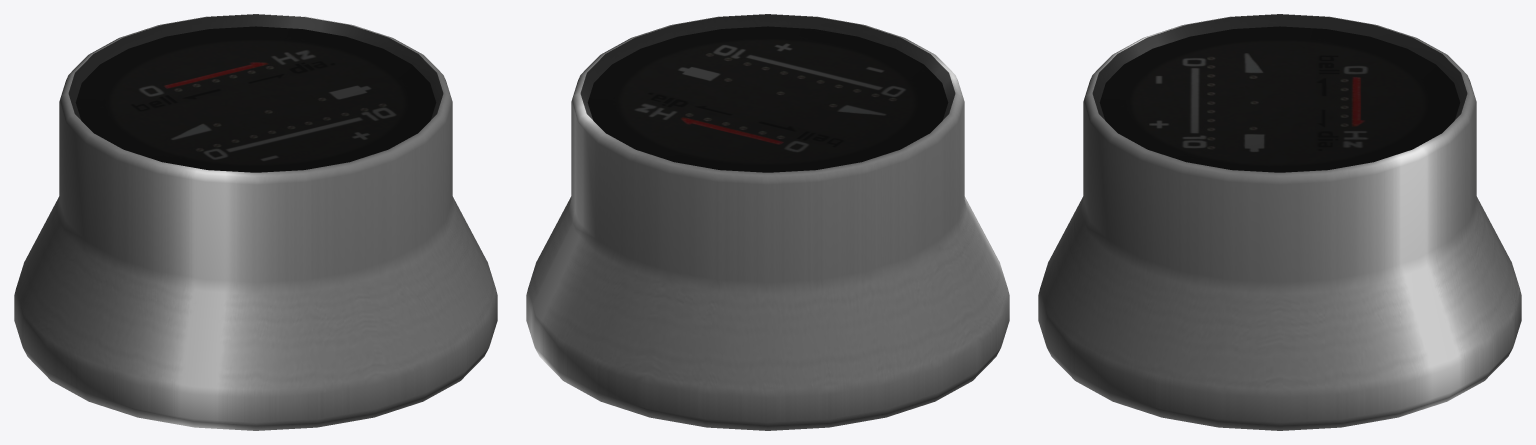
File: TLOneStethoscope.glb
3 views of the same model, side by side, from view 1: azimuth 30°, elevation 25°; view 2: azimuth 150°, elevation 25°; view 3: azimuth 270°, elevation 25° (orthographic).
Parts seen in each view (by area): view 1: TLOneStethoscope, TLOneStethoscopeGlass; view 2: TLOneStethoscope, TLOneStethoscopeGlass; view 3: TLOneStethoscope, TLOneStethoscopeGlass.
Part boxes in pixels (x1,y1,x2,y2): TLOneStethoscope: [14, 14, 497, 430]; TLOneStethoscopeGlass: [68, 14, 443, 172]; TLOneStethoscope: [526, 14, 1009, 430]; TLOneStethoscopeGlass: [580, 14, 955, 172]; TLOneStethoscope: [1038, 14, 1521, 430]; TLOneStethoscopeGlass: [1092, 14, 1467, 172].
Bounding box in the file's own units: 0.0671 × 0.0363 × 0.0671.
Materials: 2 (1 with a texture image).
